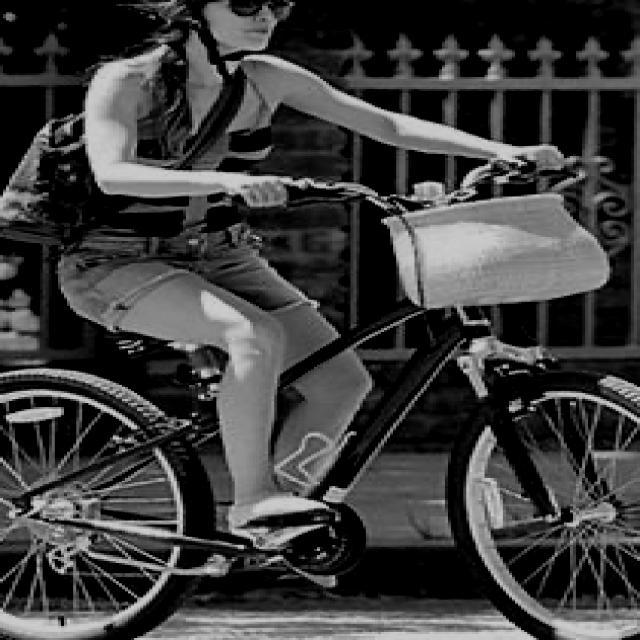Helmet: (140, 0, 293, 59)
